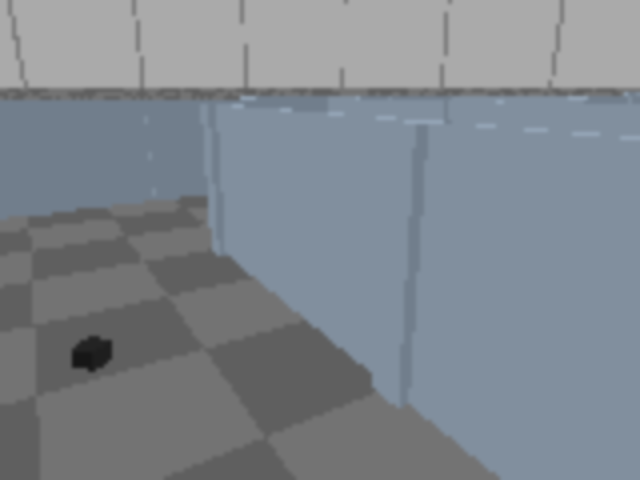puck: (70, 336, 114, 372)
